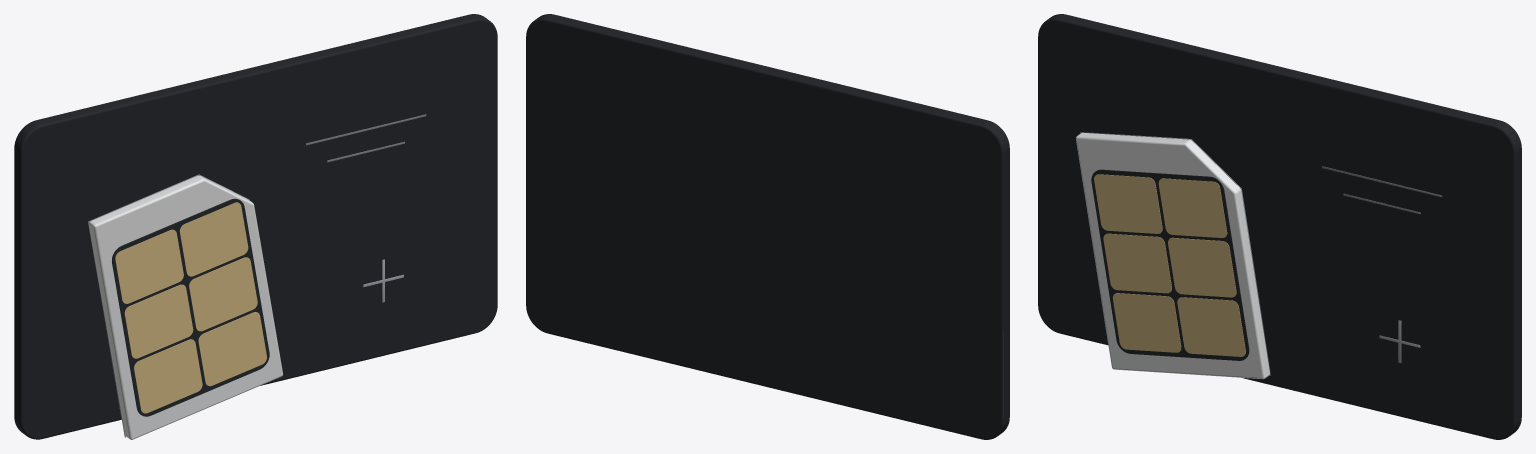
The model's file is topups-portable.glb.
The picture shows the model from 3 angles, left to right: view 1: azimuth 30°, elevation 25°; view 2: azimuth 150°, elevation 25°; view 3: azimuth 330°, elevation 25°; orthographic projection.
Visible parts, largest first — view 1: ICON_ROOT__ICON_ROOT_PBR, Top-up SIM__Top-up SIM_PBR; view 2: ICON_ROOT__ICON_ROOT_PBR; view 3: ICON_ROOT__ICON_ROOT_PBR, Top-up SIM__Top-up SIM_PBR.
Boxes of the visible parts, bbox=[...] form: ICON_ROOT__ICON_ROOT_PBR: bbox=[14, 14, 497, 439]; Top-up SIM__Top-up SIM_PBR: bbox=[88, 174, 282, 439]; ICON_ROOT__ICON_ROOT_PBR: bbox=[526, 14, 1009, 439]; ICON_ROOT__ICON_ROOT_PBR: bbox=[1038, 14, 1521, 439]; Top-up SIM__Top-up SIM_PBR: bbox=[1076, 132, 1271, 379].
Bounding box in the file's own units: 0.027 × 0.0173 × 0.0026.
Materials: 2 (2 with a texture image).
